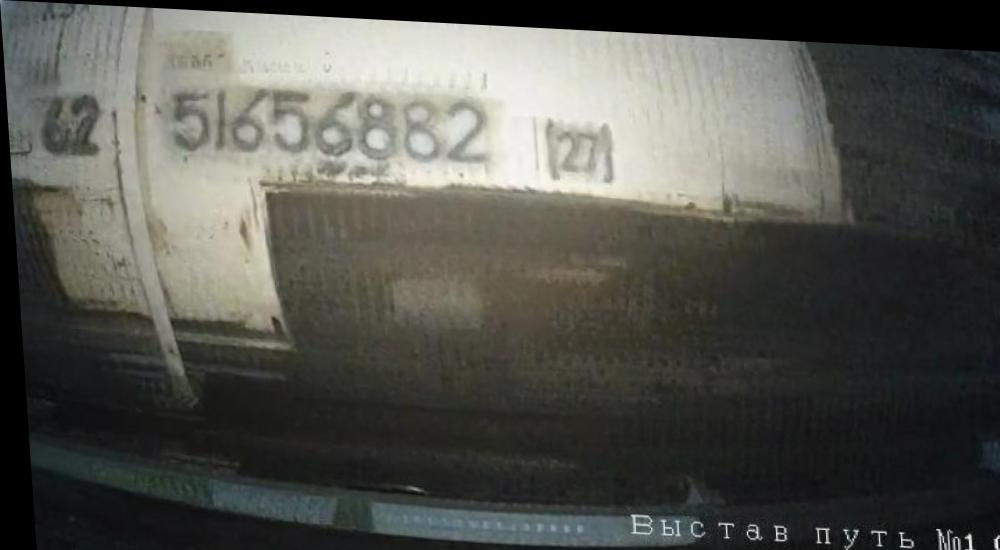Wagon-number: (162, 77, 500, 166)
